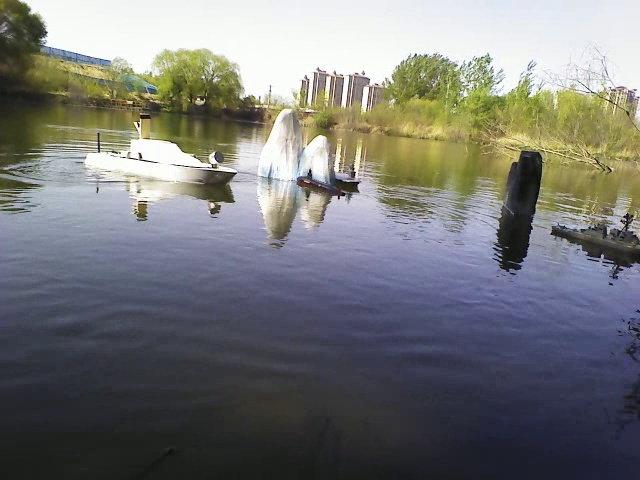aircraft_carrier: (335, 157, 363, 193)
boat: (84, 135, 240, 187)
iceberg: (258, 108, 338, 183)
rock: (499, 142, 549, 211)
submarine: (295, 171, 346, 197)
warship: (546, 206, 637, 255)
